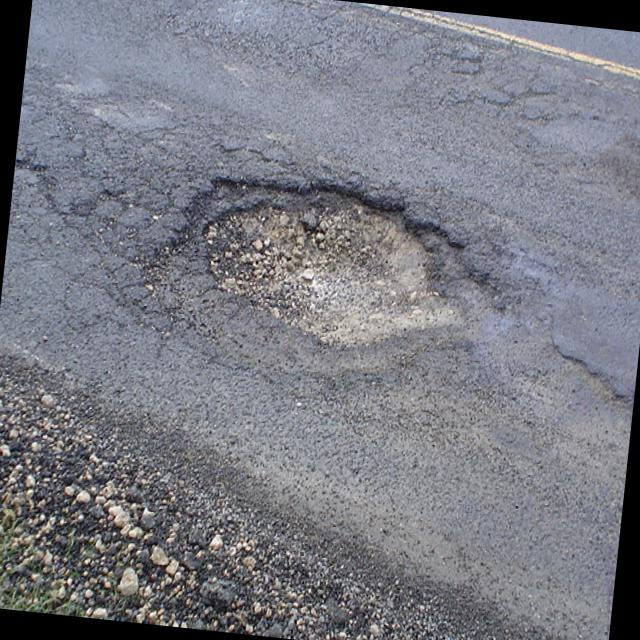Potholes: (157, 74, 515, 392)
